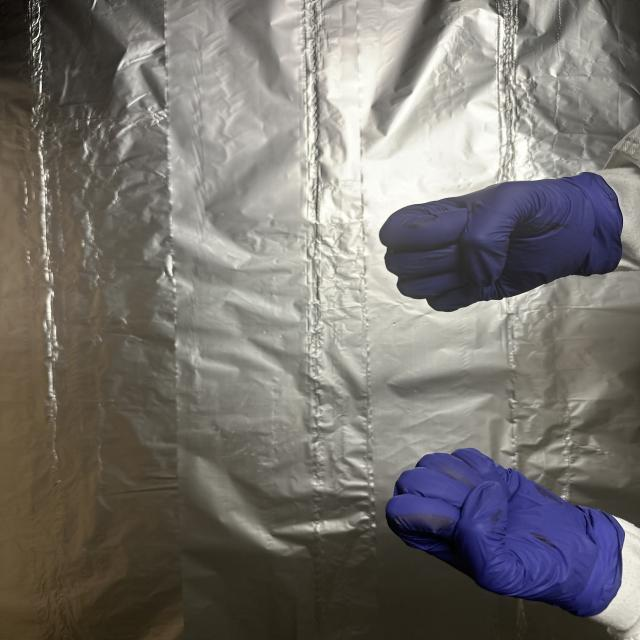gloves_contaminated: (386, 448, 625, 616), (380, 173, 622, 312)
